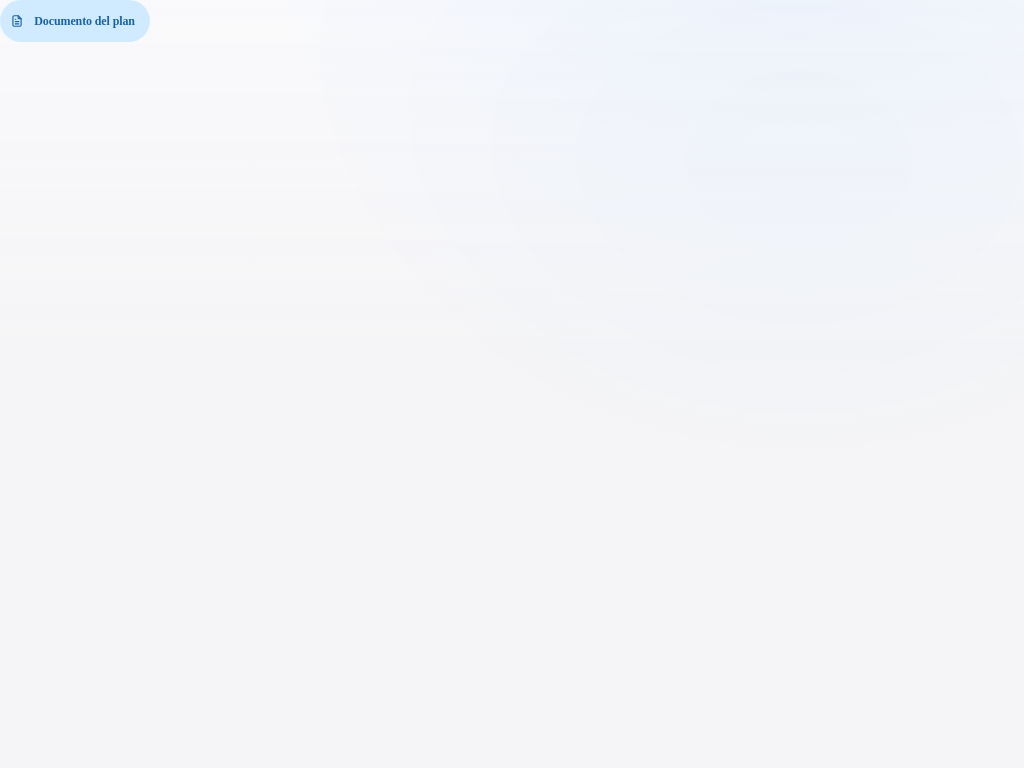
explains the plan phase by phase in plain words
Click the button "Documento del plan": click(75, 21) x1=0 y1=0 x2=150 y2=42
(page scrolled)
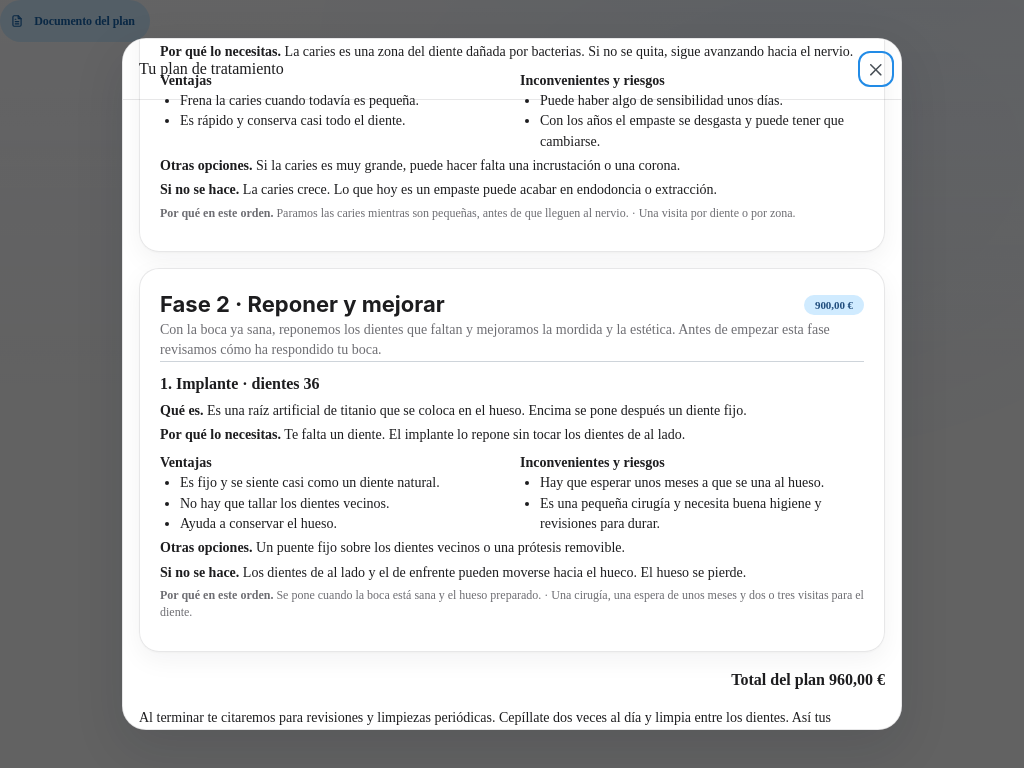
Now the text "1. Implante · dientes 36" is shown, box x1=160 y1=375 x2=320 y2=392
Now the text "Inconvenientes y riesgos" is shown once, box x1=520 y1=455 x2=665 y2=470
